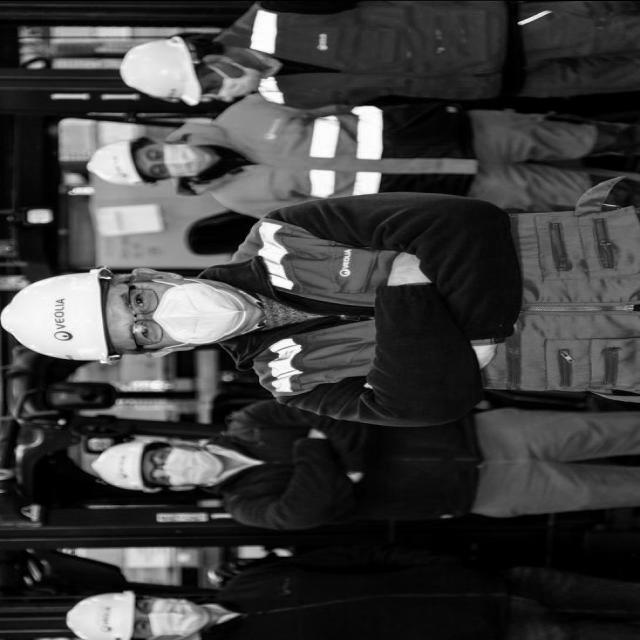construction helmet: (2, 267, 116, 363), (121, 33, 206, 105), (93, 435, 166, 493), (87, 134, 165, 185), (67, 588, 139, 640)
